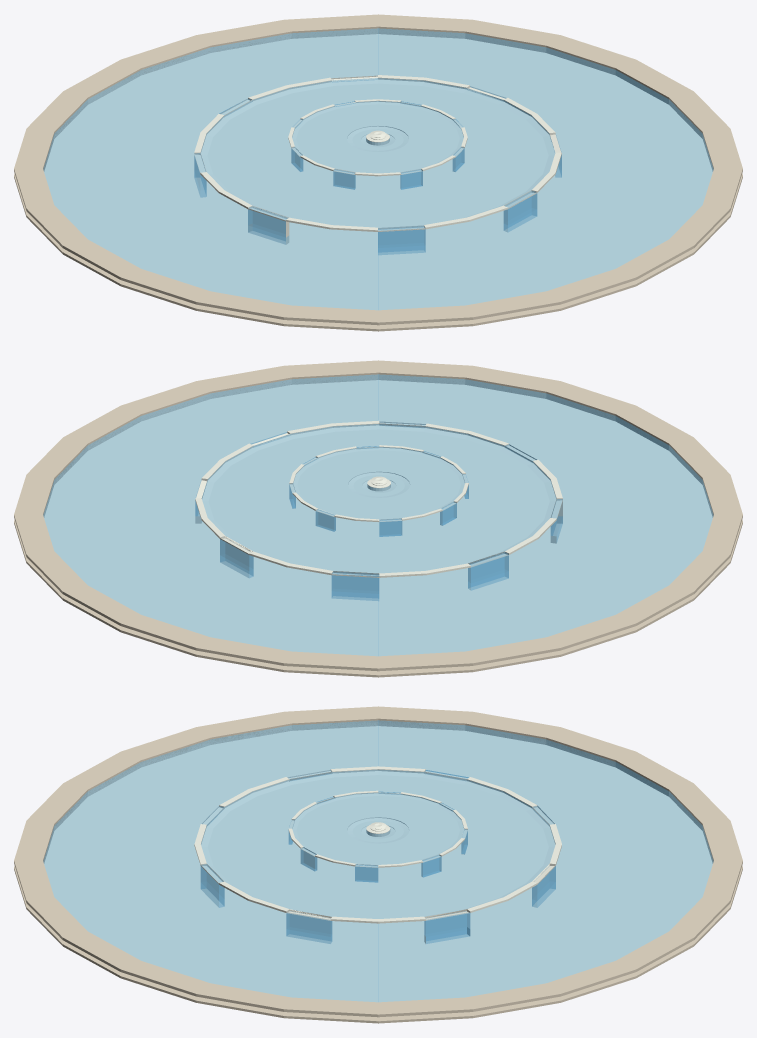
The model's file is Fountain.fbx.
3 views of the same model, one above another, from view 1: azimuth 30°, elevation 25°; view 2: azimuth 150°, elevation 25°; view 3: azimuth 270°, elevation 25° (orthographic).
Parts seen in each view (by area): view 1: Fountain; view 2: Fountain; view 3: Fountain.
Part boxes in pixels (x1,y1,x2,y2): Fountain: (14, 14, 742, 331); Fountain: (14, 360, 742, 677); Fountain: (14, 706, 742, 1023).
Size of the model in its own units: 14766 by 997 by 14766.
